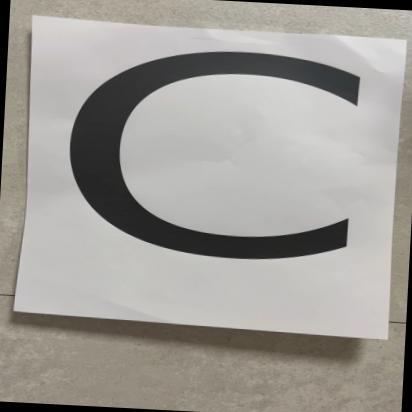seat: (26, 21, 400, 335)
